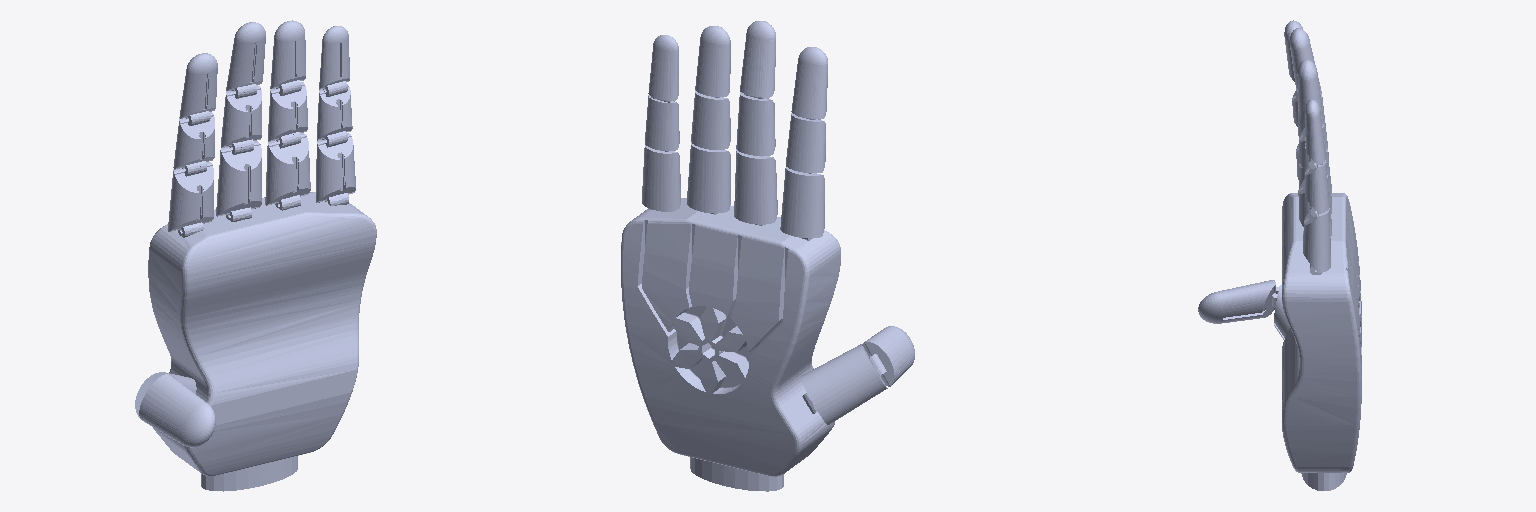
robot.urdf — assem2_description:
<?xml version="1.0" encoding="utf-8"?>
<!-- This URDF was automatically created by SolidWorks to URDF Exporter! Originally created by Stephen Brawner (brawner@gmail.com) 
     Commit Version: 1.6.0-4-g7f85cfe  Build Version: 1.6.7995.38578
     For more information, please see http://wiki.ros.org/sw_urdf_exporter -->
<robot
  name="assem2_description">

  <link name="base_footprint"/>
  <link
    name="base_link">
    <inertial>
      <origin
        xyz="0.0656386712520219 -0.0432467828307973 0.0100521759712125"
        rpy="0 0 0" />
      <mass
        value="0.259120162249515" />
      <inertia
        ixx="0.000288711035480735"
        ixy="-5.42298696694902E-07"
        ixz="-1.033172642498E-05"
        iyy="0.00040872876302531"
        iyz="3.84708184328528E-06"
        izz="0.00015929450417956" />
    </inertial>
    <visual>
      <origin
        xyz="0 0 0"
        rpy="0 0 0" />
      <geometry>
        <mesh
          filename="package://assem2_description/meshes/base_link.STL" />
      </geometry>
      <material
        name="">
        <color
          rgba="0.792156862745098 0.819607843137255 0.933333333333333 1" />
      </material>
    </visual>
    <collision>
      <origin
        xyz="0 0 0"
        rpy="0 0 0" />
      <geometry>
        <mesh
          filename="package://assem2_description/meshes/base_link.STL" />
      </geometry>
    </collision>
  </link>

  <joint name="base_joint" type="fixed">
    <parent link="base_footprint"/>
    <child link="base_link"/>
    <origin xyz="0 0 0" rpy="0 0 0"/>
  </joint>

  <!-- Step 1: Dummy link -->
  <link name="hand_synergy_link"/>

  <!-- Step 2: Fixed joint to attach it to the base -->
  <joint name="hand_synergy_fixed" type="fixed">
    <parent link="base_link"/>
    <child link="hand_synergy_link"/>
    <origin xyz="0 0 0" rpy="0 0 0"/>
  </joint>

  <link name="hand_synergy_rotated"/>

  <joint name="hand_synergy" type="revolute">
    <parent link="hand_synergy_link"/>
    <child link="hand_synergy_rotated"/>
    <axis xyz="0 0 1"/>
    <limit lower="0.0" upper="1.0" effort="1" velocity="1"/>
  </joint>


  <link
    name="thumb1_Link">
    <inertial>
      <origin
        xyz="0.00512390130538683 0.0149785760029524 -0.000898769028056828"
        rpy="0 0 0" />
      <mass
        value="0.00782969555542092" />
      <inertia
        ixx="6.23290345863103E-07"
        ixy="-2.27653828063278E-11"
        ixz="-6.40433079706808E-12"
        iyy="3.8516036552849E-07"
        iyz="-7.78149137213318E-09"
        izz="7.69498615659275E-07" />
    </inertial>
    <visual>
      <origin
        xyz="0 0 0"
        rpy="0 0 0" />
      <geometry>
        <mesh
          filename="package://assem2_description/meshes/thumb1_Link.STL" />
      </geometry>
      <material
        name="">
        <color
          rgba="0.792156862745098 0.819607843137255 0.933333333333333 1" />
      </material>
    </visual>
    <collision>
      <origin
        xyz="0 0 0"
        rpy="0 0 0" />
      <geometry>
        <mesh
          filename="package://assem2_description/meshes/thumb1_Link.STL" />
      </geometry>
    </collision>
  </link>
  <joint
    name="thumb_j1"
    type="revolute">
    <origin
      xyz="0.0240518483089937 -0.0462528306122306 -0.0172471775497014"
      rpy="1.33873613613483 -0.948932451668994 -0.000258786914443362" />
    <parent
      link="base_link" />
    <child
      link="thumb1_Link" />
    <axis
      xyz="-1 0 0" />
      
    <!--<mimic joint="hand_synergy" multiplier="-1.2"/>> -->

    <limit
      lower="-1.4"
      upper="-0.2"
      effort="5"
      velocity="0.2" />
  </joint>
  <link
    name="thumb2_Link">
    <inertial>
      <origin
        xyz="0.00512389905179179 0.0163538150272155 -0.000369459809588565"
        rpy="0 0 0" />
      <mass
        value="0.00610021895486931" />
      <inertia
        ixx="5.65725285566143E-07"
        ixy="2.64269415324105E-12"
        ixz="6.00375420712271E-12"
        iyy="2.16034510916205E-07"
        iyz="-2.18166882934033E-08"
        izz="6.72756524738135E-07" />
    </inertial>
    <visual>
      <origin
        xyz="0 0 0"
        rpy="0 0 0" />
      <geometry>
        <mesh
          filename="package://assem2_description/meshes/thumb2_Link.STL" />
      </geometry>
      <material
        name="">
        <color
          rgba="0.792156862745098 0.819607843137255 0.933333333333333 1" />
      </material>
    </visual>
    <collision>
      <origin
        xyz="0 0 0"
        rpy="0 0 0" />
      <geometry>
        <mesh
          filename="package://assem2_description/meshes/thumb2_Link.STL" />
      </geometry>
    </collision>
  </link>
  <joint
    name="thumb_j2"
    type="revolute">
    <origin
      xyz="0 0.031 0"
      rpy="0.318147664815992 0 0" />
    <parent
      link="thumb1_Link" />
    <child
      link="thumb2_Link" />
    <axis
      xyz="-1 0 0" />

    <mimic joint="thumb_j1" multiplier="1.1"/>

    <limit
      lower="-1.2876"
      upper="0.28324"
      effort="4"
      velocity="0.2" />
  </joint>
  <link
    name="r11_Link">
    <inertial>
      <origin
        xyz="0.0106126461268541 0.0138574623397819 -0.000692499995342252"
        rpy="0 0 0" />
      <mass
        value="0.00505163456925077" />
      <inertia
        ixx="3.45504087921045E-07"
        ixy="-1.7648803979526E-11"
        ixz="1.15021663613417E-11"
        iyy="1.6934687929108E-07"
        iyz="-4.26690958776279E-09"
        izz="4.09666083226781E-07" />
    </inertial>
    <visual>
      <origin
        xyz="0 0 0"
        rpy="0 0 0" />
      <geometry>
        <mesh
          filename="package://assem2_description/meshes/r11_Link.STL" />
      </geometry>
      <material
        name="">
        <color
          rgba="0.792156862745098 0.819607843137255 0.933333333333333 1" />
      </material>
    </visual>
    <collision>
      <origin
        xyz="0 0 0"
        rpy="0 0 0" />
      <geometry>
        <mesh
          filename="package://assem2_description/meshes/r11_Link.STL" />
      </geometry>
    </collision>
  </link>
  <joint
    name="r1_j1"
    type="revolute">
    <origin
      xyz="0.021540766547458 -0.0462886971045631 0.0651169842968732"
      rpy="1.65806278939658 0 0" />
    <parent
      link="base_link" />
    <child
      link="r11_Link" />
    <axis
      xyz="1 0 0" />

    <mimic joint="hand_synergy" multiplier="1.2"/>

    <limit
      lower="0"
      upper="1.4835"
      effort="4"
      velocity="0.2" />
  </joint>
  <link
    name="r12_Link">
    <inertial>
      <origin
        xyz="0.00948526334559017 0.011319051574415 -0.000637443423010794"
        rpy="0 0 0" />
      <mass
        value="0.00316423445901308" />
      <inertia
        ixx="1.52922072642436E-07"
        ixy="-2.95022509642198E-12"
        ixz="-3.98120081602575E-12"
        iyy="8.21074183350032E-08"
        iyz="-2.05574054430349E-09"
        izz="1.87613484946731E-07" />
    </inertial>
    <visual>
      <origin
        xyz="0 0 0"
        rpy="0 0 0" />
      <geometry>
        <mesh
          filename="package://assem2_description/meshes/r12_Link.STL" />
      </geometry>
      <material
        name="">
        <color
          rgba="0.792156862745098 0.819607843137255 0.933333333333333 1" />
      </material>
    </visual>
    <collision>
      <origin
        xyz="0 0 0"
        rpy="0 0 0" />
      <geometry>
        <mesh
          filename="package://assem2_description/meshes/r12_Link.STL" />
      </geometry>
    </collision>
  </link>
  <joint
    name="r1_j2"
    type="revolute">
    <origin
      xyz="0.00112607587808405 0.029 0"
      rpy="0.0349065850414309 0 0" />
    <parent
      link="r11_Link" />
    <child
      link="r12_Link" />
    <axis
      xyz="1 0 0" />

    <mimic joint="r1_j1" multiplier="1.0"/>

    <limit
      lower="0"
      upper="1.5708"
      effort="5"
      velocity="0.2" />
  </joint>
  <link
    name="r13_Link">
    <inertial>
      <origin
        xyz="0.0083883098520136 0.0138316339526323 -0.000305335243949517"
        rpy="0 0 0" />
      <mass
        value="0.00295264403592367" />
      <inertia
        ixx="2.10142945758861E-07"
        ixy="-3.99673727223903E-13"
        ixz="-7.77469702902124E-13"
        iyy="5.61707534590071E-08"
        iyz="-6.02567806578341E-09"
        izz="2.35429968122707E-07" />
    </inertial>
    <visual>
      <origin
        xyz="0 0 0"
        rpy="0 0 0" />
      <geometry>
        <mesh
          filename="package://assem2_description/meshes/r13_Link.STL" />
      </geometry>
      <material
        name="">
        <color
          rgba="0.792156862745098 0.819607843137255 0.933333333333333 1" />
      </material>
    </visual>
    <collision>
      <origin
        xyz="0 0 0"
        rpy="0 0 0" />
      <geometry>
        <mesh
          filename="package://assem2_description/meshes/r13_Link.STL" />
      </geometry>
    </collision>
  </link>
  <joint
    name="r1_j3"
    type="revolute">
    <origin
      xyz="0.0010967437272964 0.024 0"
      rpy="0.034906585038563 0 0" />
    <parent
      link="r12_Link" />
    <child
      link="r13_Link" />
    <axis
      xyz="-1 0 0" />

    <mimic joint="r1_j1" multiplier="-0.8"/>

    <limit
      lower="-1.0472"
      upper="0"
      effort="4"
      velocity="0.2" />
  </joint>
  <link
    name="middle1_Link">
    <inertial>
      <origin
        xyz="0.0109180043393285 0.0148232616995928 -0.000651883383610372"
        rpy="0 0 0" />
      <mass
        value="0.00545833962203947" />
      <inertia
        ixx="4.20728383042533E-07"
        ixy="-1.09435181644222E-11"
        ixz="-1.02902378312803E-12"
        iyy="1.83607706583251E-07"
        iyz="-4.83669878207309E-09"
        izz="4.89363446589277E-07" />
    </inertial>
    <visual>
      <origin
        xyz="0 0 0"
        rpy="0 0 0" />
      <geometry>
        <mesh
          filename="package://assem2_description/meshes/middle1_Link.STL" />
      </geometry>
      <material
        name="">
        <color
          rgba="0.792156862745098 0.819607843137255 0.933333333333333 1" />
      </material>
    </visual>
    <collision>
      <origin
        xyz="0 0 0"
        rpy="0 0 0" />
      <geometry>
        <mesh
          filename="package://assem2_description/meshes/middle1_Link.STL" />
      </geometry>
    </collision>
  </link>
  <joint
    name="middle_j1"
    type="revolute">
    <origin
      xyz="0.0440176635890045 -0.0460986682470855 0.066692131425617"
      rpy="1.59876267557947 0.0174497310570342 -0.0202042158612193" />
    <parent
      link="base_link" />
    <child
      link="middle1_Link" />
    <axis
      xyz="1 0 0" />

    <mimic joint="hand_synergy" multiplier="1.3"/>

    <limit
      lower="-0.034784"
      upper="1.536"
      effort="4"
      velocity="0.2" />
  </joint>
  <link
    name="middle2_Link">
    <inertial>
      <origin
        xyz="0.00975020937049818 0.0122814878785258 -0.000595623262741193"
        rpy="0 0 0" />
      <mass
        value="0.00347421007174819" />
      <inertia
        ixx="1.92893028184273E-07"
        ixy="-2.88853610777076E-12"
        ixz="-3.35455479364462E-12"
        iyy="9.05970098325026E-08"
        iyz="-2.41855667765878E-09"
        izz="2.3068124017024E-07" />
    </inertial>
    <visual>
      <origin
        xyz="0 0 0"
        rpy="0 0 0" />
      <geometry>
        <mesh
          filename="package://assem2_description/meshes/middle2_Link.STL" />
      </geometry>
      <material
        name="">
        <color
          rgba="0.792156862745098 0.819607843137255 0.933333333333333 1" />
      </material>
    </visual>
    <collision>
      <origin
        xyz="0 0 0"
        rpy="0 0 0" />
      <geometry>
        <mesh
          filename="package://assem2_description/meshes/middle2_Link.STL" />
      </geometry>
    </collision>
  </link>
  <joint
    name="middle_j2"
    type="revolute">
    <origin
      xyz="0.00116795153597407 0.031 0"
      rpy="0.0349065850383234 0 0" />
    <parent
      link="middle1_Link" />
    <child
      link="middle2_Link" />
    <axis
      xyz="-1 0 0" />

    <mimic joint="middle_j1" multiplier="-1.0"/>

    <limit
      lower="-1.5708"
      upper="0"
      effort="4"
      velocity="0.2" />
  </joint>
  <link
    name="middle3_Link">
    <inertial>
      <origin
        xyz="0.00861075553653146 0.0147804782644377 -0.000296908093710115"
        rpy="0 0 0" />
      <mass
        value="0.00317733360346207" />
      <inertia
        ixx="2.55769356163239E-07"
        ixy="1.11906784018037E-12"
        ixz="9.69949322385877E-14"
        iyy="6.08014811267132E-08"
        iyz="-6.57411733131653E-09"
        izz="2.83052492523849E-07" />
    </inertial>
    <visual>
      <origin
        xyz="0 0 0"
        rpy="0 0 0" />
      <geometry>
        <mesh
          filename="package://assem2_description/meshes/middle3_Link.STL" />
      </geometry>
      <material
        name="">
        <color
          rgba="0.792156862745098 0.819607843137255 0.933333333333333 1" />
      </material>
    </visual>
    <collision>
      <origin
        xyz="0 0 0"
        rpy="0 0 0" />
      <geometry>
        <mesh
          filename="package://assem2_description/meshes/middle3_Link.STL" />
      </geometry>
    </collision>
  </link>
  <joint
    name="middle_j3"
    type="revolute">
    <origin
      xyz="0.00113938236336966 0.0260000000000002 0"
      rpy="0.104719755119606 0 0" />
    <parent
      link="middle2_Link" />
    <child
      link="middle3_Link" />
    <axis
      xyz="-1 0 0" />
    
    <mimic joint="middle_j1" multiplier="-0.7"/>

    <limit
      lower="-0.99484"
      upper="0"
      effort="4"
      velocity="0.2" />
  </joint>
  <link
    name="r21_Link">
    <inertial>
      <origin
        xyz="0.0112017617861178 0.0138574615965664 -0.000692455340707394"
        rpy="0 0 0" />
      <mass
        value="0.00505162053540393" />
      <inertia
        ixx="3.45503717620925E-07"
        ixy="-1.75283568065723E-11"
        ixz="1.02027944508691E-11"
        iyy="1.6934653608407E-07"
        iyz="-4.26735340598669E-09"
        izz="4.09663829555223E-07" />
    </inertial>
    <visual>
      <origin
        xyz="0 0 0"
        rpy="0 0 0" />
      <geometry>
        <mesh
          filename="package://assem2_description/meshes/r21_Link.STL" />
      </geometry>
      <material
        name="">
        <color
          rgba="0.792156862745098 0.819607843137255 0.933333333333333 1" />
      </material>
    </visual>
    <collision>
      <origin
        xyz="0 0 0"
        rpy="0 0 0" />
      <geometry>
        <mesh
          filename="package://assem2_description/meshes/r21_Link.STL" />
      </geometry>
    </collision>
  </link>
  <joint
    name="r2_j1"
    type="revolute">
    <origin
      xyz="0.0669125531917285 -0.0465454519734037 0.0663061932721765"
      rpy="1.59891291317393 -0.0174497310570365 0.02020421586122" />
    <parent
      link="base_link" />
    <child
      link="r21_Link" />
    <axis
      xyz="-1 0 0" />
    
    <mimic joint="hand_synergy" multiplier="-1.3"/>

    <limit
      lower="-1.5708"
      upper="0"
      effort="4"
      velocity="0.2" />
  </joint>
  <link
    name="r22_Link">
    <inertial>
      <origin
        xyz="0.00998652762818737 0.0113190599232044 -0.000637422699429603"
        rpy="0 0 0" />
      <mass
        value="0.00316424983547656" />
      <inertia
        ixx="1.52922210556909E-07"
        ixy="-2.82714325934718E-12"
        ixz="-4.36721266205461E-12"
        iyy="8.21081713555794E-08"
        iyz="-2.05574740931456E-09"
        izz="1.87614766096003E-07" />
    </inertial>
    <visual>
      <origin
        xyz="0 0 0"
        rpy="0 0 0" />
      <geometry>
        <mesh
          filename="package://assem2_description/meshes/r22_Link.STL" />
      </geometry>
      <material
        name="">
        <color
          rgba="0.792156862745098 0.819607843137255 0.933333333333333 1" />
      </material>
    </visual>
    <collision>
      <origin
        xyz="0 0 0"
        rpy="0 0 0" />
      <geometry>
        <mesh
          filename="package://assem2_description/meshes/r22_Link.STL" />
      </geometry>
    </collision>
  </link>
  <joint
    name="r2_j2"
    type="revolute">
    <origin
      xyz="0.00121393188528138 0.0289999999999993 0"
      rpy="0.0086607304006959 0 0" />
    <parent
      link="r21_Link" />
    <child
      link="r22_Link" />
    <axis
      xyz="1 0 0" />

    <mimic joint="r2_j1" multiplier="-1.0"/>

    <limit
      lower="-0.043567"
      upper="1.5621"
      effort="4"
      velocity="0.2" />
  </joint>
  <link
    name="r23_Link">
    <inertial>
      <origin
        xyz="0.00893033084632912 0.0138316331340014 -0.000305281262344845"
        rpy="0 0 0" />
      <mass
        value="0.00295275229934227" />
      <inertia
        ixx="2.10143973929486E-07"
        ixy="-7.23031705140317E-13"
        ixz="-2.17508601173165E-12"
        iyy="5.61754366145757E-08"
        iyz="-6.02579151232286E-09"
        izz="2.35436656971005E-07" />
    </inertial>
    <visual>
      <origin
        xyz="0 0 0"
        rpy="0 0 0" />
      <geometry>
        <mesh
          filename="package://assem2_description/meshes/r23_Link.STL" />
      </geometry>
      <material
        name="">
        <color
          rgba="0.792156862745098 0.819607843137255 0.933333333333333 1" />
      </material>
    </visual>
    <collision>
      <origin
        xyz="0 0 0"
        rpy="0 0 0" />
      <geometry>
        <mesh
          filename="package://assem2_description/meshes/r23_Link.STL" />
      </geometry>
    </collision>
  </link>
  <joint
    name="r2_j3"
    type="revolute">
    <origin
      xyz="0.00105627715725304 0.024 0"
      rpy="0.0349065850398856 0 0" />
    <parent
      link="r22_Link" />
    <child
      link="r23_Link" />
    <axis
      xyz="-1 0 0" />
    
    <mimic joint="r2_j1" multiplier="0.7"/>

    <limit
      lower="-1.5708"
      upper="0"
      effort="4"
      velocity="0.2" />
  </joint>
  <link
    name="pinky1_Link">
    <inertial>
      <origin
        xyz="0.0100814045770639 0.0132424873934518 -0.000560391542164668"
        rpy="0 0 0" />
      <mass
        value="0.00378439613099857" />
      <inertia
        ixx="2.39762405025283E-07"
        ixy="-3.00053564557227E-12"
        ixz="-4.98740081394117E-12"
        iyy="9.90876367051699E-08"
        iyz="-2.78446123969546E-09"
        izz="2.80666197332003E-07" />
    </inertial>
    <visual>
      <origin
        xyz="0 0 0"
        rpy="0 0 0" />
      <geometry>
        <mesh
          filename="package://assem2_description/meshes/pinky1_Link.STL" />
      </geometry>
      <material
        name="">
        <color
          rgba="0.792156862745098 0.819607843137255 0.933333333333333 1" />
      </material>
    </visual>
    <collision>
      <origin
        xyz="0 0 0"
        rpy="0 0 0" />
      <geometry>
        <mesh
          filename="package://assem2_description/meshes/pinky1_Link.STL" />
      </geometry>
    </collision>
  </link>
  <joint
    name="pinky_j1"
    type="revolute">
    <origin
      xyz="0.0909862690963969 -0.0460068210277935 0.0617178593201947"
      rpy="1.5602882514778 -0.0174511735876714 0.015584157838284" />
    <parent
      link="base_link" />
    <child
      link="pinky1_Link" />
    <axis
      xyz="-1 0 0" />
    
    <mimic joint="hand_synergy" multiplier="-1.15"/>

    <limit
      lower="-1.5522"
      upper="0.018643"
      effort="4"
      velocity="0.2" />
  </joint>
  <link
    name="pinky2_Link">
    <inertial>
      <origin
        xyz="0.00888126411418376 0.010663021989836 -0.000488394100891118"
        rpy="0 0 0" />
      <mass
        value="0.00226842276697224" />
      <inertia
        ixx="1.0144868442032E-07"
        ixy="-5.5733944423488E-13"
        ixz="-6.39143230088185E-13"
        iyy="4.45533391970744E-08"
        iyz="-1.19705101290774E-09"
        izz="1.22087606613138E-07" />
    </inertial>
    <visual>
      <origin
        xyz="0 0 0"
        rpy="0 0 0" />
      <geometry>
        <mesh
          filename="package://assem2_description/meshes/pinky2_Link.STL" />
      </geometry>
      <material
        name="">
        <color
          rgba="0.792156862745098 0.819607843137255 0.933333333333333 1" />
      </material>
    </visual>
    <collision>
      <origin
        xyz="0 0 0"
        rpy="0 0 0" />
      <geometry>
        <mesh
          filename="package://assem2_description/meshes/pinky2_Link.STL" />
      </geometry>
    </collision>
  </link>
  <joint
    name="pinky_j2"
    type="revolute">
    <origin
      xyz="0.00120000271622225 0.028 0"
      rpy="0.0349065850403582 0 0" />
    <parent
      link="pinky1_Link" />
    <child
      link="pinky2_Link" />
    <axis
      xyz="-1 0 0" />
    <mimic joint="pinky_j1" multiplier="1.1"/>

    <limit
      lower="-1.5708"
      upper="0"
      effort="4"
      velocity="0.2" />
  </joint>
  <link
    name="pinky3_Link">
    <inertial>
      <origin
        xyz="0.00795294187668354 0.0125582589042525 -0.000236691271445121"
        rpy="0 0 0" />
      <mass
        value="0.00194016989437313" />
      <inertia
        ixx="1.23532246699094E-07"
        ixy="1.11497589612462E-12"
        ixz="3.40673667833946E-12"
        iyy="2.70942905057707E-08"
        iyz="-2.28860084336207E-09"
        izz="1.37453558046944E-07" />
    </inertial>
    <visual>
      <origin
        xyz="0 0 0"
        rpy="0 0 0" />
      <geometry>
        <mesh
          filename="package://assem2_description/meshes/pinky3_Link.STL" />
      </geometry>
      <material
        name="">
        <color
          rgba="0.792156862745098 0.819607843137255 0.933333333333333 1" />
      </material>
    </visual>
    <collision>
      <origin
        xyz="0 0 0"
        rpy="0 0 0" />
      <geometry>
        <mesh
          filename="package://assem2_description/meshes/pinky3_Link.STL" />
      </geometry>
    </collision>
  </link>
  <joint
    name="pinky_j3"
    type="revolute">
    <origin
      xyz="0.00092831414823398 0.023 0"
      rpy="0.03490658503964 0 0" />
    <parent
      link="pinky2_Link" />
    <child
      link="pinky3_Link" />
    <axis
      xyz="-1 0 0" />
    
    <mimic joint="pinky_j1" multiplier="0.85"/>

    <limit
      lower="-1.0472"
      upper="0"
      effort="4"
      velocity="0.2" />
  </joint>
</robot>

--- What the picture shows (computed from the rendered views, not written in the file) ---
Views: 3 orthographic renders of the robot side by side, from view 1: azimuth 30°, elevation 25°; view 2: azimuth 150°, elevation 25°; view 3: azimuth 270°, elevation 25°.
Robot: assem2_description — 18 links, 17 joints (15 revolute, 2 fixed); root link base_footprint; default pose: joints at zero except 1 at the middle of their limits (thumb_j1 = -0.8, thumb_j2 = -0.88).
Links seen in each view (by area): view 1: base_link, thumb2_Link, middle1_Link, r21_Link, r11_Link, pinky1_Link, middle3_Link, r23_Link, middle2_Link, r13_Link, r22_Link, r12_Link (+3 smaller); view 2: base_link, thumb1_Link, middle1_Link, r11_Link, r21_Link, middle3_Link, pinky1_Link, r13_Link, r23_Link, middle2_Link, r12_Link, r22_Link (+3 smaller); view 3: base_link, thumb2_Link, pinky1_Link, pinky3_Link, pinky2_Link, r23_Link, middle3_Link.
Link boxes in pixels (x1,y1,x2,y2): base_link: (148,192,376,491); thumb2_Link: (139,374,215,447); middle1_Link: (216,141,261,221); r21_Link: (265,133,310,210); r11_Link: (168,162,213,237); pinky1_Link: (316,132,355,205); middle3_Link: (226,22,265,98); r23_Link: (270,20,305,95); middle2_Link: (221,85,261,154); r13_Link: (179,53,217,125); r22_Link: (268,82,307,148); r12_Link: (173,112,214,176); base_link: (621,198,840,491); thumb1_Link: (800,344,887,424); middle1_Link: (734,149,777,225); r11_Link: (780,167,824,240); r21_Link: (687,142,730,214); middle3_Link: (740,21,775,98); pinky1_Link: (642,145,680,211); r13_Link: (791,47,827,119); r23_Link: (695,26,730,97); middle2_Link: (736,92,775,156); r12_Link: (786,113,825,173); r22_Link: (691,90,730,149); base_link: (1282,193,1361,490); thumb2_Link: (1198,280,1278,323); pinky1_Link: (1303,205,1330,274); pinky3_Link: (1305,100,1325,169); pinky2_Link: (1305,157,1329,216); r23_Link: (1297,60,1323,125); middle3_Link: (1290,28,1321,94).
Size in the robot's own frame: 0.115 by 0.0718 by 0.2107 metres.
Meshes: 15 distinct files referenced, 15 mesh visuals loaded (15 binary STL).
